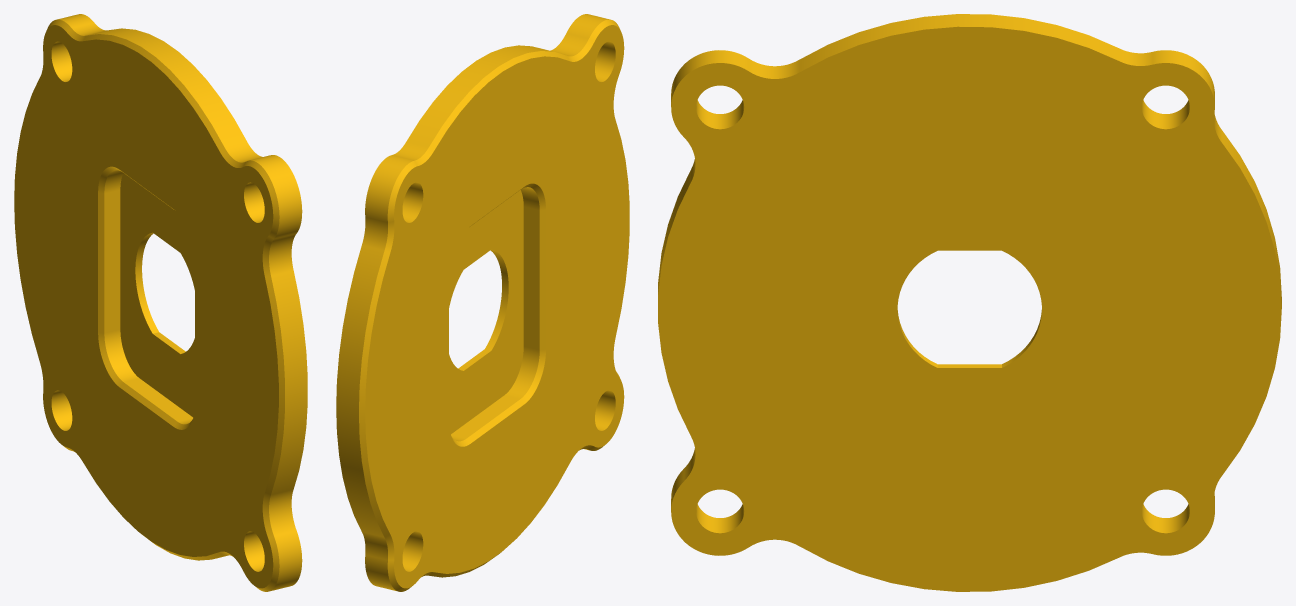
Rendered from bulb.gltf.
The picture shows the model from 3 angles, left to right: view 1: azimuth 30°, elevation 25°; view 2: azimuth 150°, elevation 25°; view 3: azimuth 270°, elevation 25°; orthographic projection. The views are drawn at different scales.
Parts seen in each view (by area): view 1: mesh2388, mesh2401, mesh2354, mesh2352, mesh2395, mesh2353, mesh2380, mesh2355, mesh2387, mesh2375, mesh2394, mesh2393 (+12 smaller); view 2: mesh2388, mesh2401, mesh2358, mesh2352, mesh2402, mesh2367, mesh2359, mesh2387, mesh2405, mesh2404, mesh2391, mesh2363 (+13 smaller); view 3: mesh2348, mesh2352, mesh2353, mesh2358, mesh2359.
Boxes of the visible parts, x1,y1,x2,y2 form: mesh2388: (14,25,278,588); mesh2401: (120,173,194,417); mesh2354: (271,270,307,494); mesh2352: (87,28,246,146); mesh2395: (104,190,120,333); mesh2353: (250,155,302,238); mesh2380: (265,276,284,494); mesh2355: (270,530,302,591); mesh2387: (83,34,223,149); mesh2375: (269,489,296,535); mesh2394: (98,193,104,333); mesh2393: (104,329,138,381); mesh2388: (365,25,629,588); mesh2401: (449,190,523,434); mesh2358: (336,245,384,536); mesh2352: (406,45,552,146); mesh2402: (523,207,539,349); mesh2367: (359,251,390,537); mesh2359: (365,155,413,222); mesh2387: (429,51,569,150); mesh2405: (539,210,545,349); mesh2404: (505,346,539,398); mesh2391: (451,395,519,438); mesh2363: (485,249,508,350); mesh2348: (658,26,1281,591); mesh2352: (799,14,1119,72); mesh2353: (671,50,748,105); mesh2358: (1222,131,1281,308); mesh2359: (1152,50,1214,103).
Bounding box in the file's own units: 0.002 × 0.035 × 0.035.
